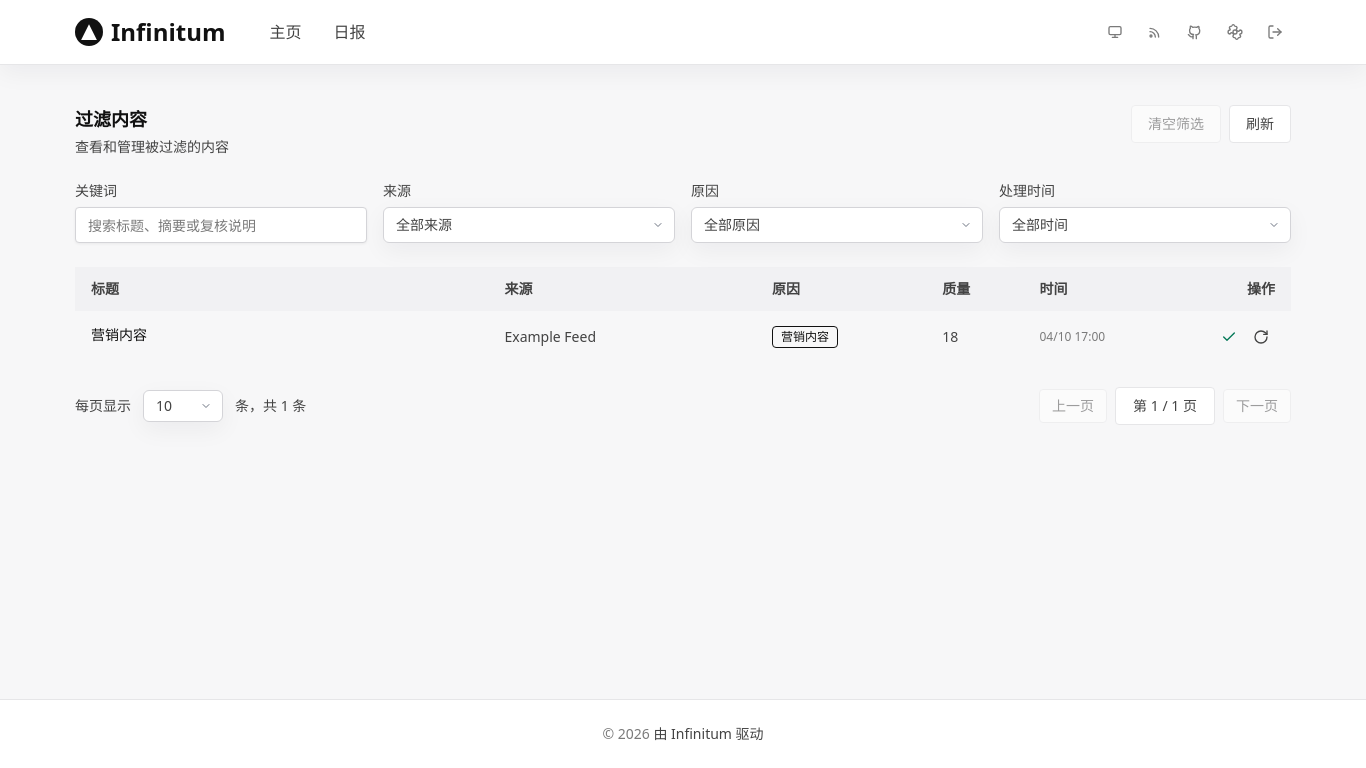
ContentReviewPanel › filters the current review list by keyword
Expected: the button "营销内容" is shown, [91, 324, 472, 344]
In the field named "审核关键词": [221, 225] box [75, 207, 367, 243], type "不存在的关键词"
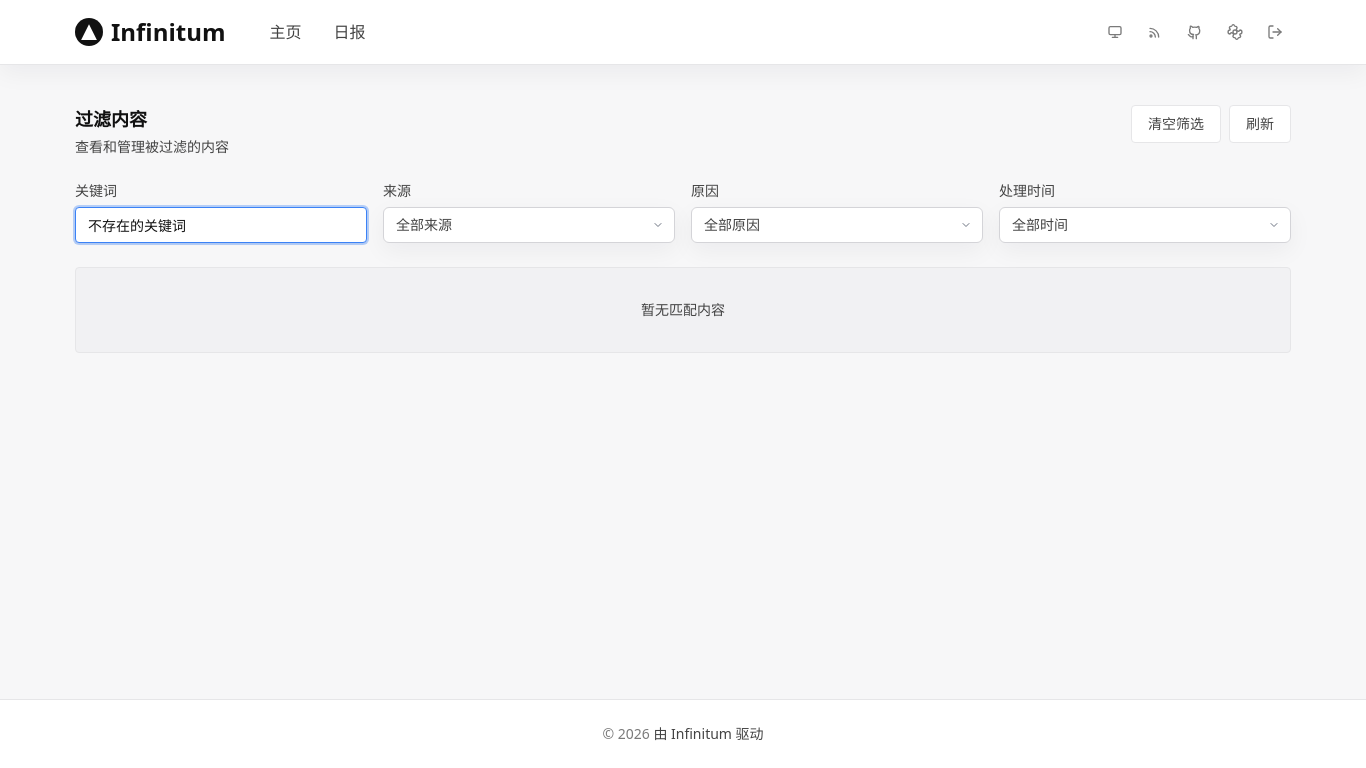
Expected: the text "暂无匹配内容" is shown, [641, 300, 725, 319]
